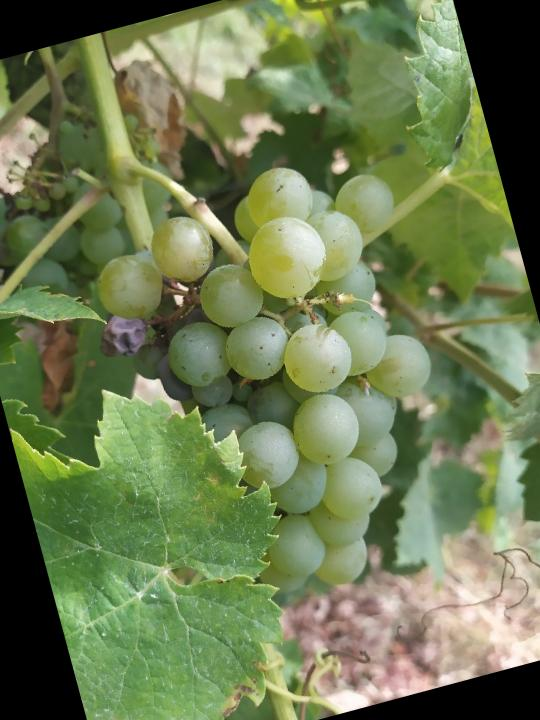grape: (74, 137, 490, 631)
